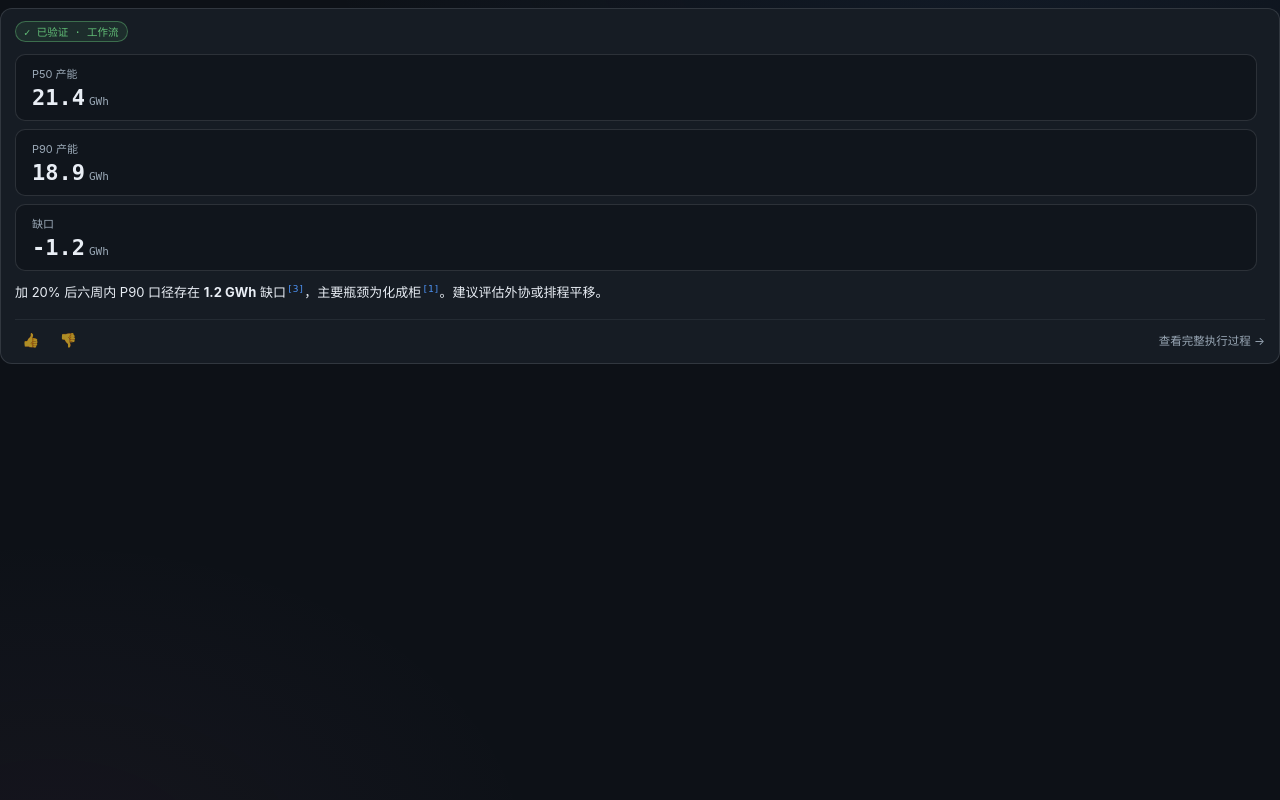
F5 · 溯源弹窗（全局唯一组件） › text 角标点击打开，四段内容齐全
What coordinates should you click on to do the following:
click the button with test id "prov-mark-prov-a2-3"
I would click on:
 (296, 288)
Its box is [287,283,304,294].
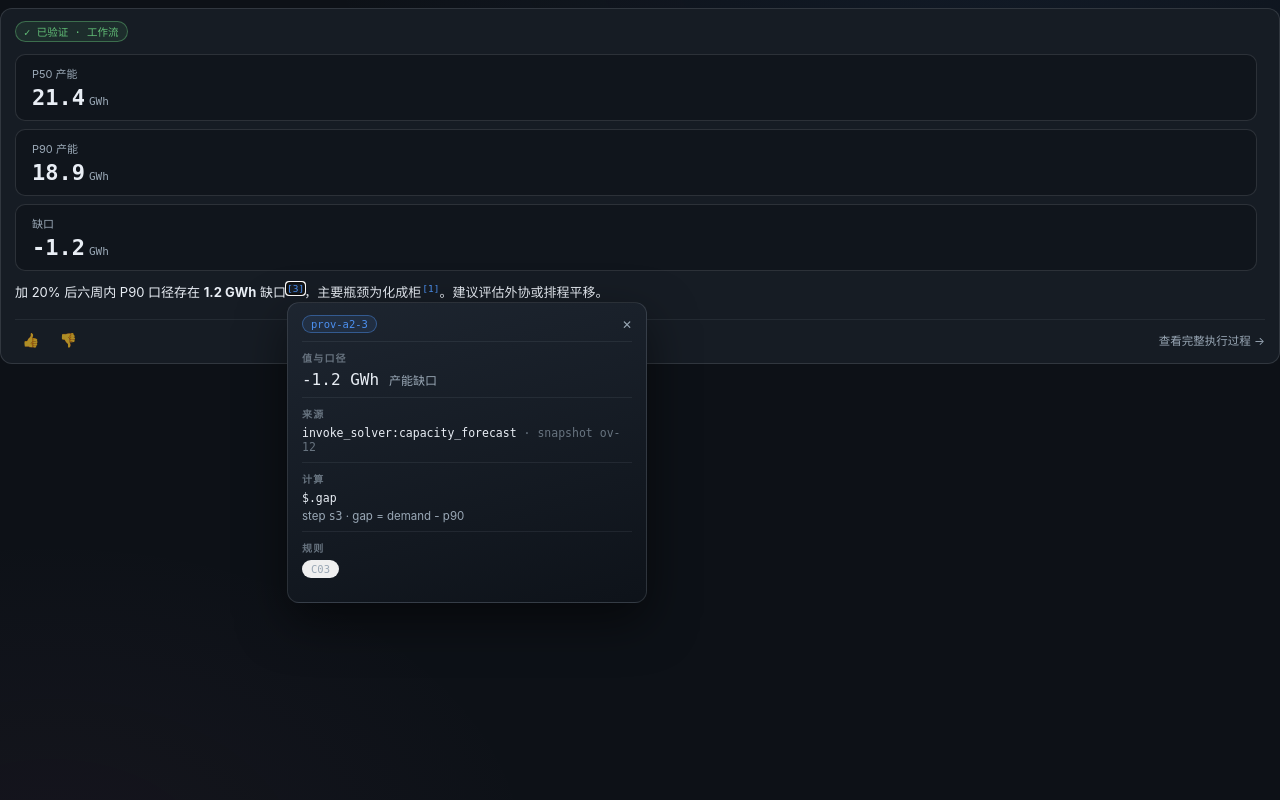
Result: the heading "值与口径" is shown at [302,353,347,364]
Result: the heading "来源" is shown at [302,409,324,420]
Result: the heading "计算" is shown at [302,474,324,485]
Note: 规则段可展开 expression
What coordinates should you click on to do the following:
click the button "C03"
I would click on:
 (320, 569)
Its box is [302,560,339,578].
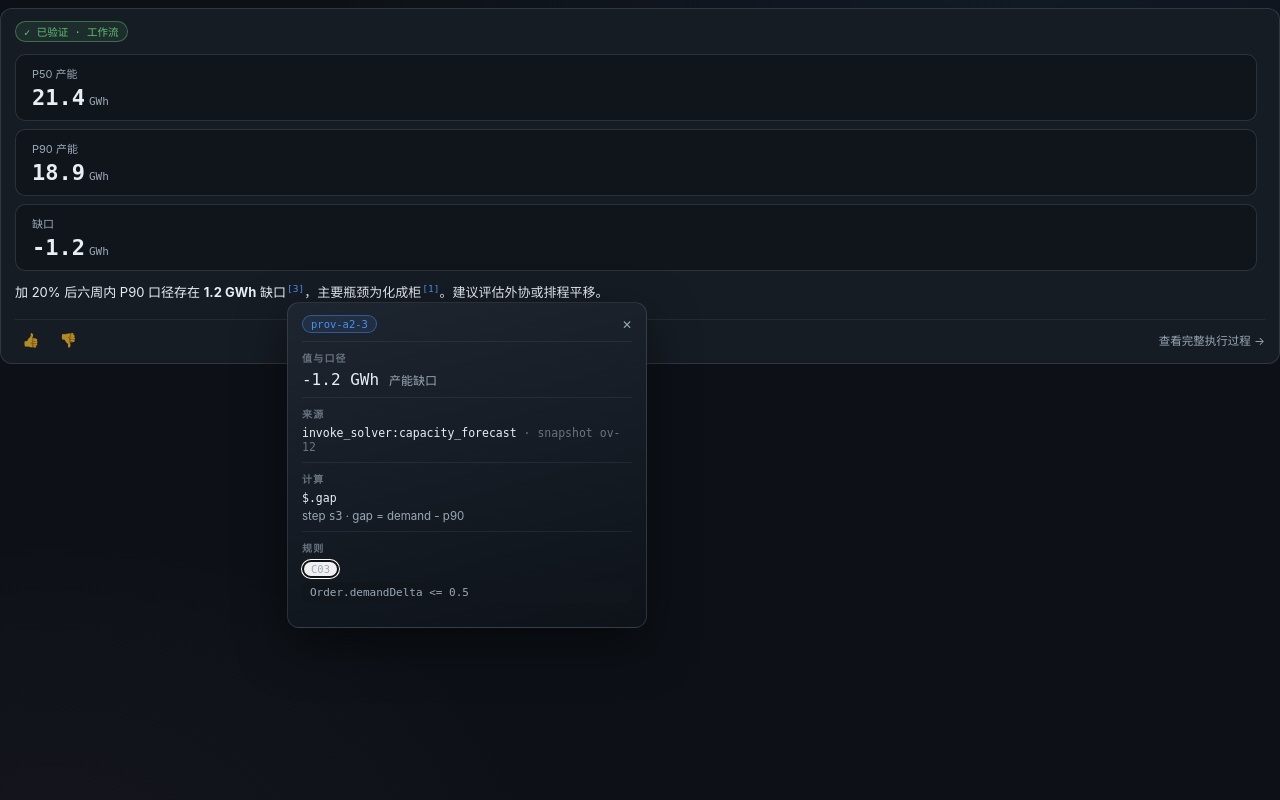
Result: the text "Order.demandDelta <= 0.5" is shown at [302,582,632,603]
